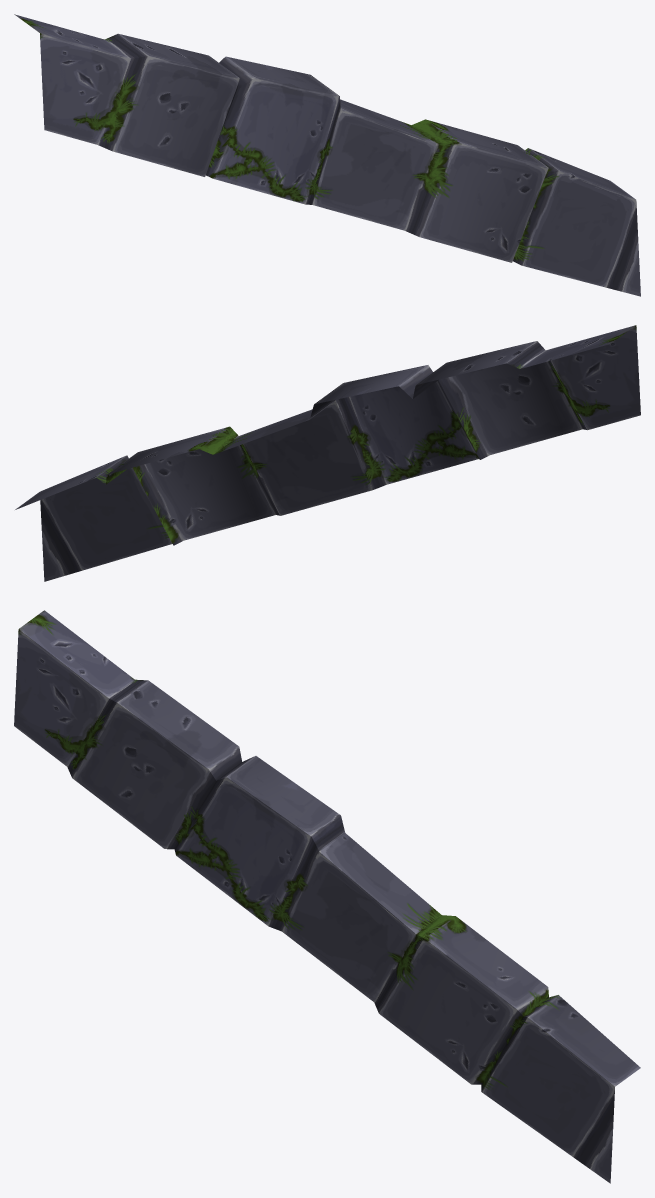
Rendered from MOD_Stairs_01_WallTrim_L_3.fbx.
3 renders of one model, top to bottom at view 1: azimuth 30°, elevation 25°; view 2: azimuth 150°, elevation 25°; view 3: azimuth 330°, elevation 25°, orthographic.
Visible parts, largest first — view 1: MOD_Stairs_01_WallTrim_L_3; view 2: MOD_Stairs_01_WallTrim_L_3; view 3: MOD_Stairs_01_WallTrim_L_3.
Boxes of the visible parts, bbox=[...] form: MOD_Stairs_01_WallTrim_L_3: bbox=[14, 14, 640, 296]; MOD_Stairs_01_WallTrim_L_3: bbox=[15, 325, 640, 581]; MOD_Stairs_01_WallTrim_L_3: bbox=[14, 610, 640, 1183].
Size of what is drawn, in the model's own units: 400 by 260 by 41.23.
